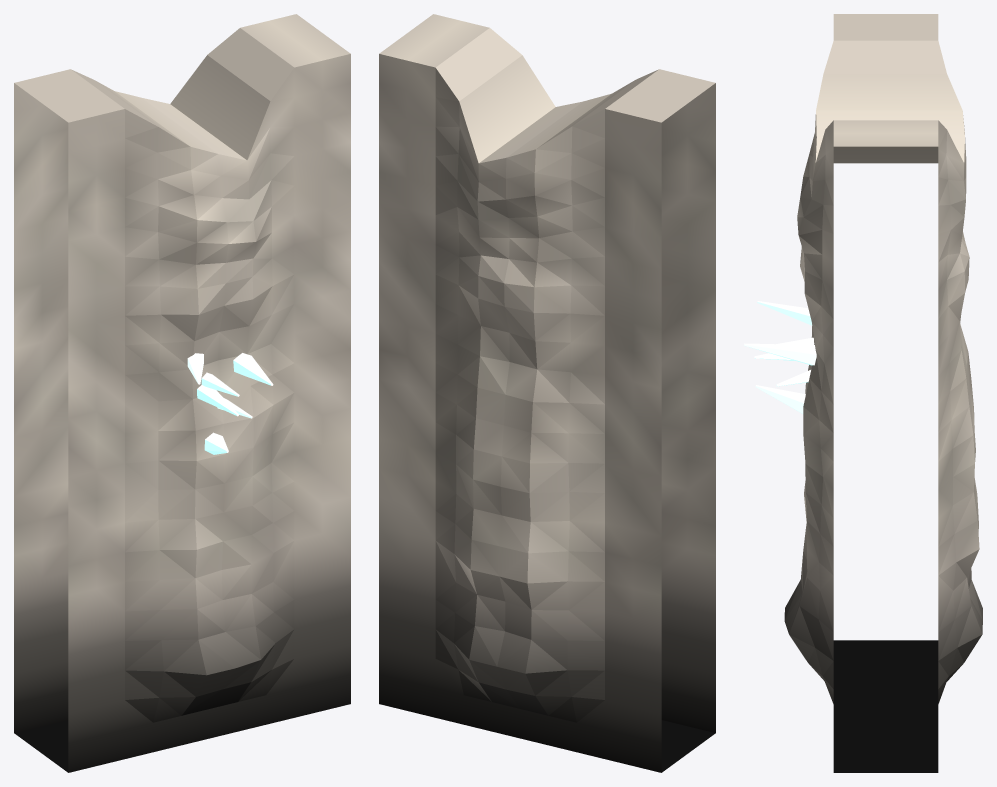
Rendered from SM_VKI_Wall_Cave_Plain_150B_Full.fbx.
3 views of the same model, side by side, from view 1: azimuth 30°, elevation 25°; view 2: azimuth 150°, elevation 25°; view 3: azimuth 270°, elevation 25° (orthographic). The views are drawn at different scales.
Parts seen in each view (by area): view 1: SM_VKI_Wall_Cave_Plain_150B_Full.001; view 2: SM_VKI_Wall_Cave_Plain_150B_Full.001; view 3: SM_VKI_Wall_Cave_Plain_150B_Full.001.
Part boxes in pixels (x1,y1,x2,y2): SM_VKI_Wall_Cave_Plain_150B_Full.001: (14, 14, 350, 772); SM_VKI_Wall_Cave_Plain_150B_Full.001: (379, 14, 715, 772); SM_VKI_Wall_Cave_Plain_150B_Full.001: (744, 14, 982, 772).
Size of the model in its own units: 1.5 by 3.3 by 1.14.
